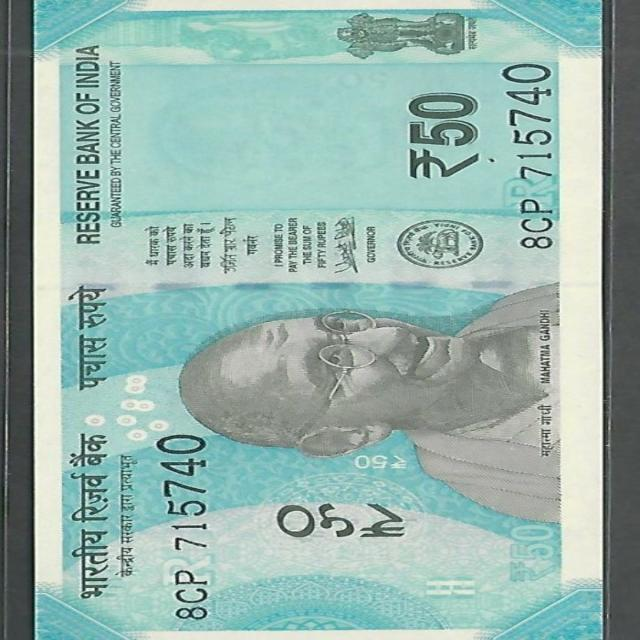50IndianRupees: (40, 0, 602, 640)
